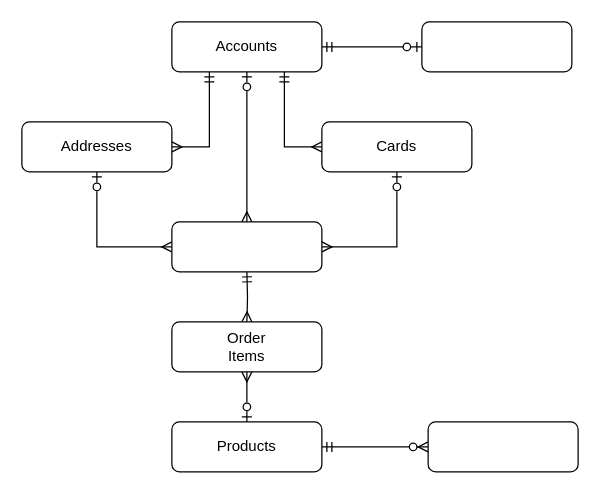
Image size: 600x494. Some labels were removed from this diagram. Here are the shapes that lost their labels. From the top down, the centre of each, then its label:
(496,46): Unverified Accounts
(246,246): Orders
(502,446): Images
